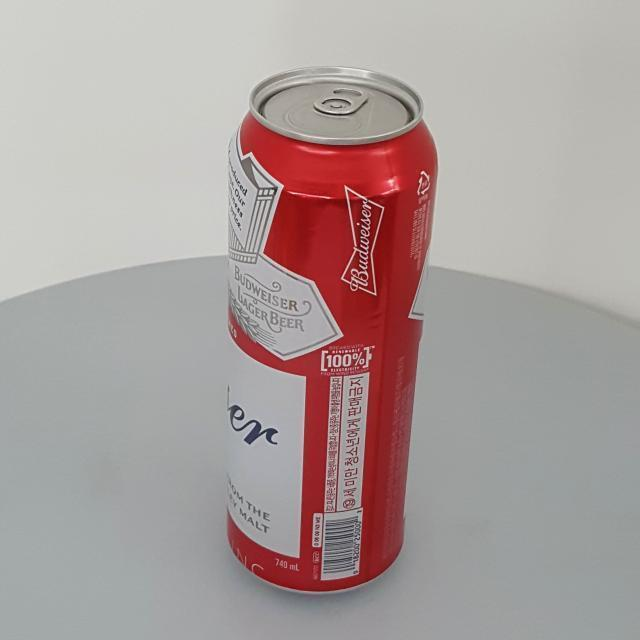can: (220, 63, 441, 599)
